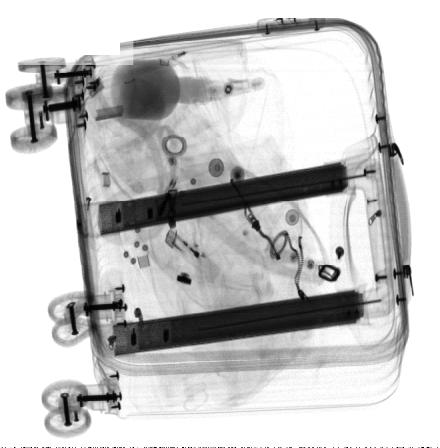Lighter: (164, 226, 221, 284)
